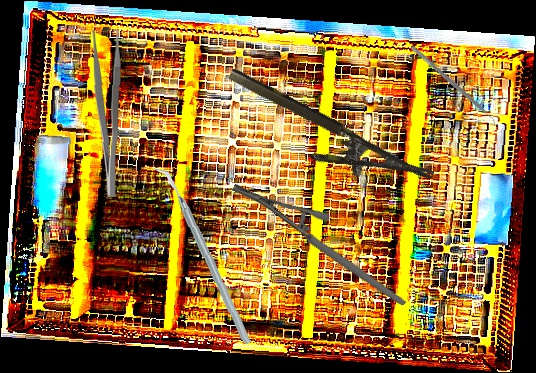Chopper: (154, 162, 251, 348)
Dressing Forceps: (88, 29, 123, 198)
Needle Holder: (229, 143, 407, 348), (213, 65, 435, 213)
Spatula Surgical: (407, 45, 501, 128)
